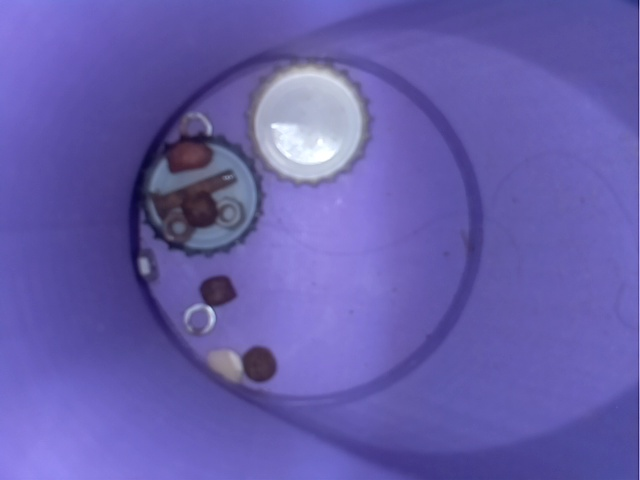capsule: (236, 54, 379, 191), (132, 127, 282, 257)
croquette: (234, 337, 278, 395), (195, 270, 241, 312)
